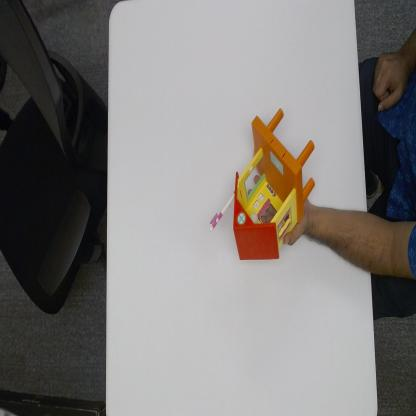Arm: (310, 201, 368, 272)
Hand: (283, 198, 310, 276)
House: (211, 106, 313, 260)
